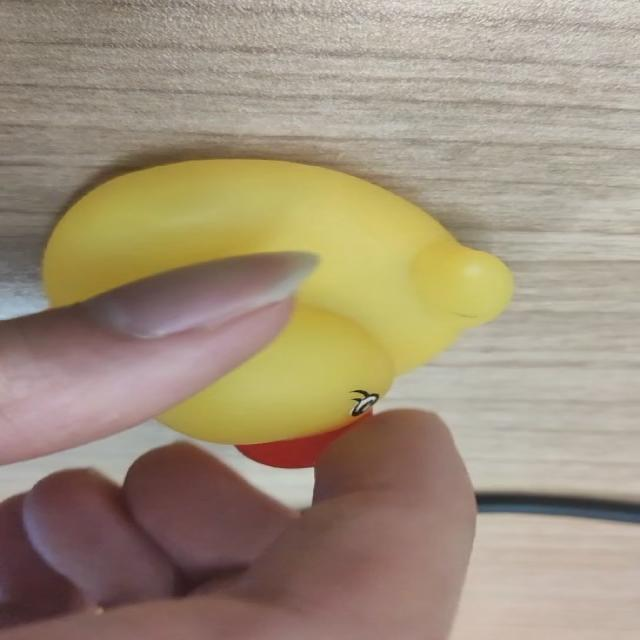rubber-duck: (42, 158, 511, 465)
